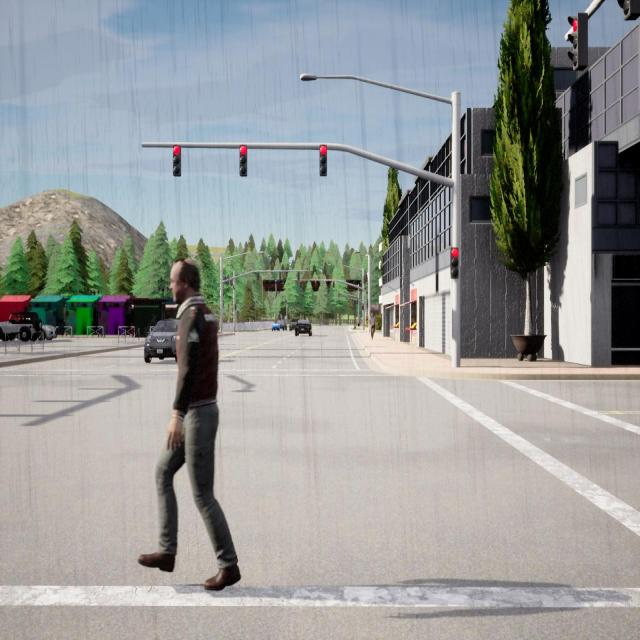Pedestrian: (138, 259, 240, 590), (369, 312, 377, 341)
Vehicle: (144, 318, 177, 363), (0, 311, 41, 341), (295, 319, 312, 336), (42, 324, 58, 340), (277, 319, 287, 331), (290, 318, 298, 332), (272, 323, 280, 332)
traffic_light: (567, 11, 588, 72), (618, 0, 640, 22), (172, 144, 182, 177), (319, 144, 328, 177), (450, 248, 459, 278), (240, 144, 247, 177), (298, 271, 300, 280), (280, 271, 282, 280), (258, 272, 260, 280), (300, 280, 302, 287), (315, 280, 317, 287), (333, 280, 335, 287), (362, 303, 364, 310), (338, 292, 340, 298), (364, 275, 365, 284), (366, 274, 367, 282), (235, 304, 236, 310)
